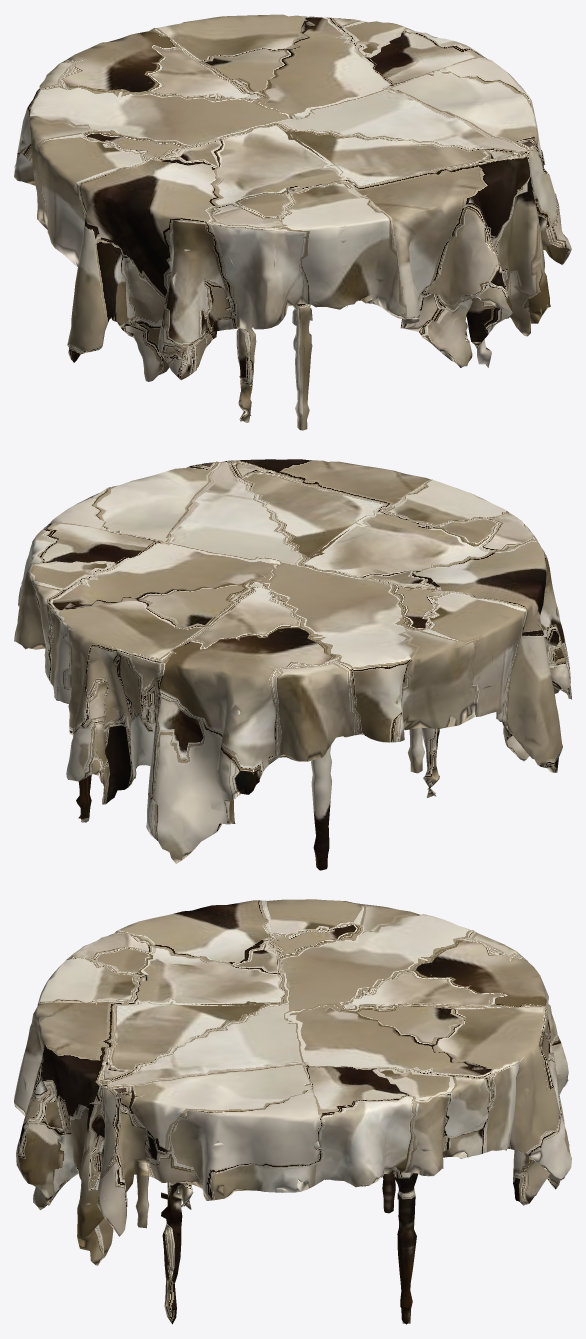
File: table.draco.glb
3 renders of one model, top to bottom at view 1: azimuth 30°, elevation 25°; view 2: azimuth 150°, elevation 25°; view 3: azimuth 270°, elevation 25°, orthographic. The views are drawn at different scales.
Parts seen in each view (by area): view 1: table; view 2: table; view 3: table.
Part boxes in pixels (<box>): table: <box>14,14,571,430</box>; table: <box>14,459,571,870</box>; table: <box>14,899,571,1324</box>.
Bounding box in the file's own units: 1.47 × 0.7448 × 1.51.
Materials: 1 (1 with a texture image).
